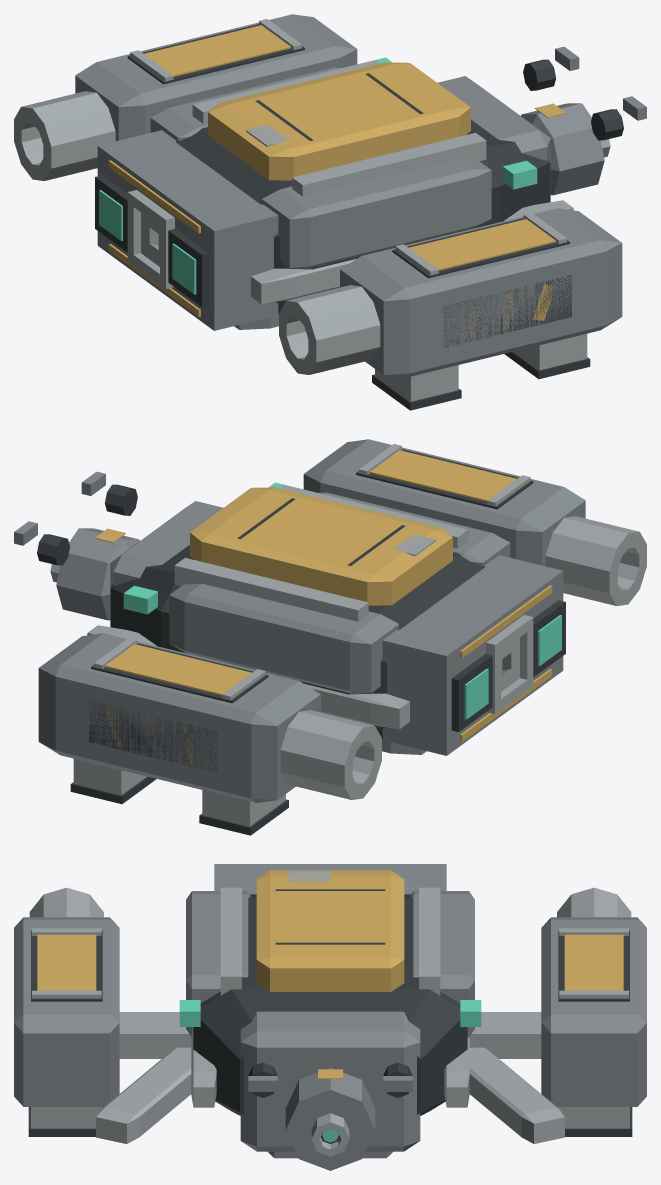
Rendered from mining-drone.glb.
The picture shows the model from 3 angles, top to bottom: view 1: azimuth 30°, elevation 25°; view 2: azimuth 150°, elevation 25°; view 3: azimuth 270°, elevation 25°; orthographic projection.
Size of the model in its own units: 5 by 1.8 by 6.
